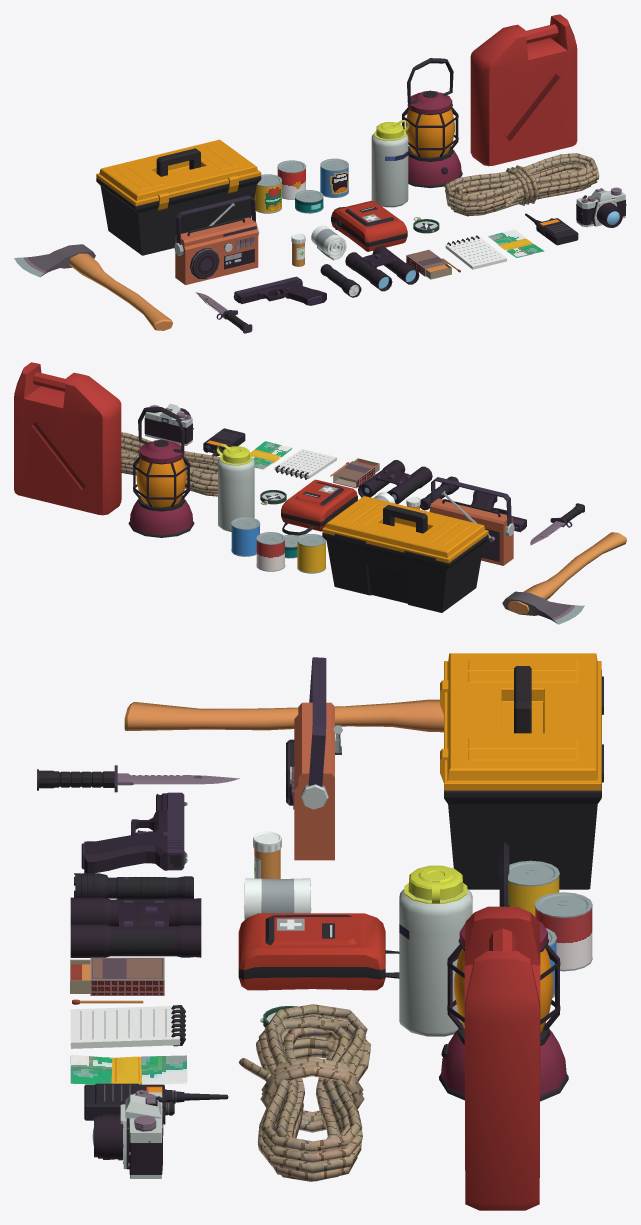
Rendered from props.glb.
The picture shows the model from 3 angles, top to bottom: view 1: azimuth 30°, elevation 25°; view 2: azimuth 150°, elevation 25°; view 3: azimuth 270°, elevation 25°; orthographic projection. The views are drawn at different scales.
Visible parts, largest first — view 1: axe.001_survivalpropsMAT_0; view 2: axe.001_survivalpropsMAT_0; view 3: axe.001_survivalpropsMAT_0.
Part boxes in pixels (<box>): axe.001_survivalpropsMAT_0: <box>14,14,626,333</box>; axe.001_survivalpropsMAT_0: <box>14,362,626,624</box>; axe.001_survivalpropsMAT_0: <box>37,653,603,1210</box>.
Size of the model in its own units: 1.88 by 0.4205 by 0.8398.
1 material, 1 textured.
